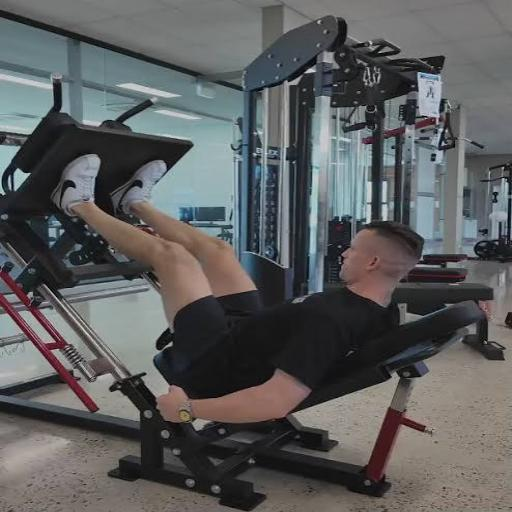Leg Press: (28, 143, 364, 453)
